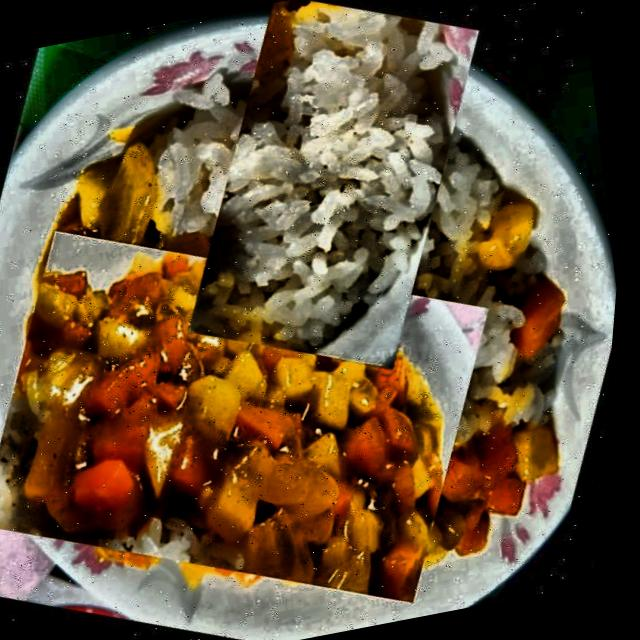Food: (0, 150, 558, 640), (113, 0, 559, 392)
